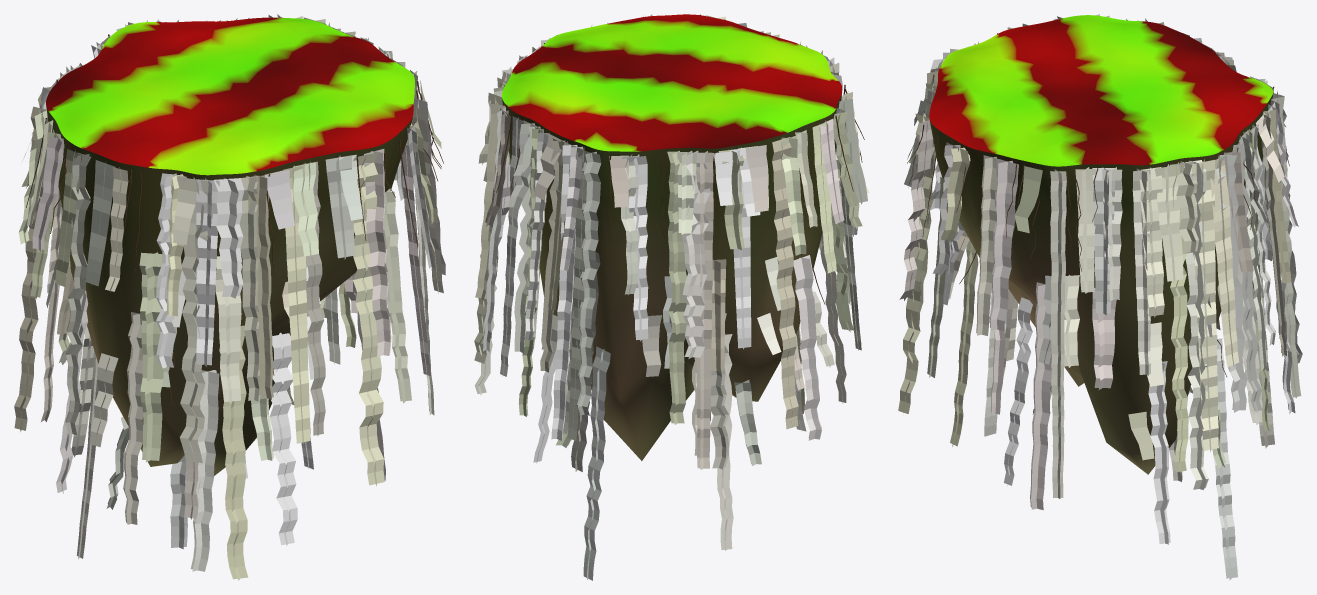
File: SM_H04_Floater01.fbx
3 views of the same model, side by side, from view 1: azimuth 30°, elevation 25°; view 2: azimuth 150°, elevation 25°; view 3: azimuth 270°, elevation 25° (orthographic). The views are drawn at different scales.
Parts seen in each view (by area): view 1: SM_H04_Floater01_Ivy, SM_H04_Floater01; view 2: SM_H04_Floater01_Ivy, SM_H04_Floater01; view 3: SM_H04_Floater01_Ivy, SM_H04_Floater01.
Boxes of the visible parts, box(x1,y1,x2,y2) form: SM_H04_Floater01_Ivy: box(14, 14, 445, 580); SM_H04_Floater01: box(46, 17, 414, 475); SM_H04_Floater01_Ivy: box(474, 14, 869, 580); SM_H04_Floater01: box(502, 14, 842, 460); SM_H04_Floater01_Ivy: box(898, 14, 1302, 580); SM_H04_Floater01: box(929, 15, 1273, 474).
Bounding box in the file's own units: 33.21 × 43.86 × 33.23.
